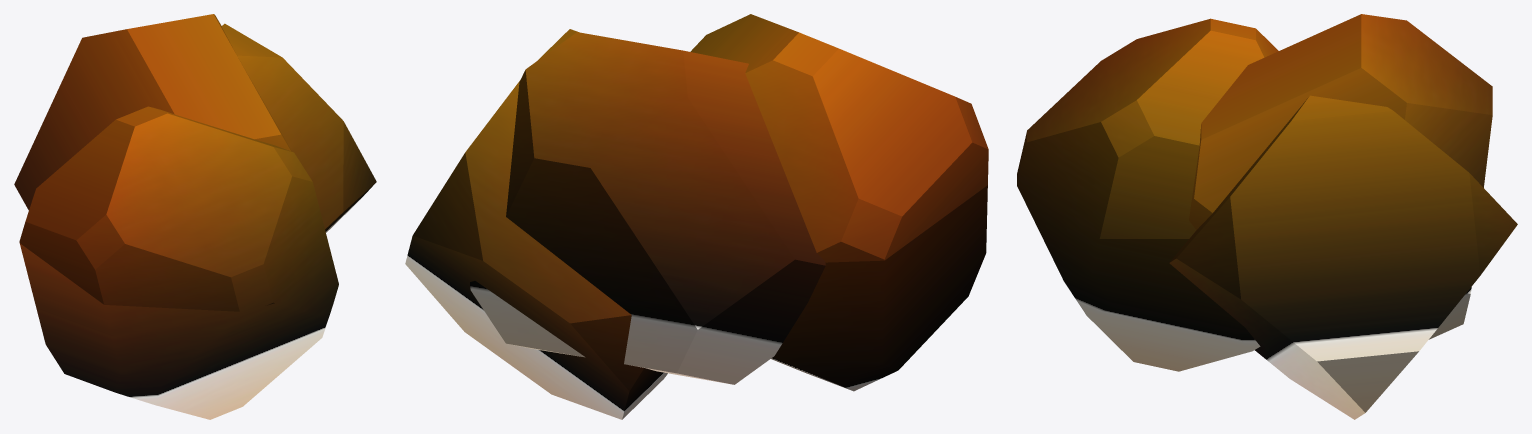
The model's file is exhibit-rocks-1.FBX.
The picture shows the model from 3 angles, left to right: view 1: azimuth 30°, elevation 25°; view 2: azimuth 150°, elevation 25°; view 3: azimuth 270°, elevation 25°; orthographic projection. The views are drawn at different scales.
Visible parts, largest first — view 1: rockb, rocka, rockc; view 2: rocka, rockb, rockc; view 3: rockc, rockb, rocka.
Boxes of the visible parts, box(x1,y1,x2,y2) form: rockb: box(19, 106, 338, 419); rocka: box(14, 14, 291, 210); rockc: box(221, 23, 376, 232); rocka: box(470, 32, 825, 384); rockb: box(690, 14, 988, 391); rockc: box(405, 29, 667, 419); rockc: box(1169, 95, 1517, 419); rockb: box(1017, 18, 1278, 371); rocka: box(1189, 14, 1492, 339).
Size of the model in its own units: 5.11 by 5.58 by 4.37.
1 material, 1 textured.
